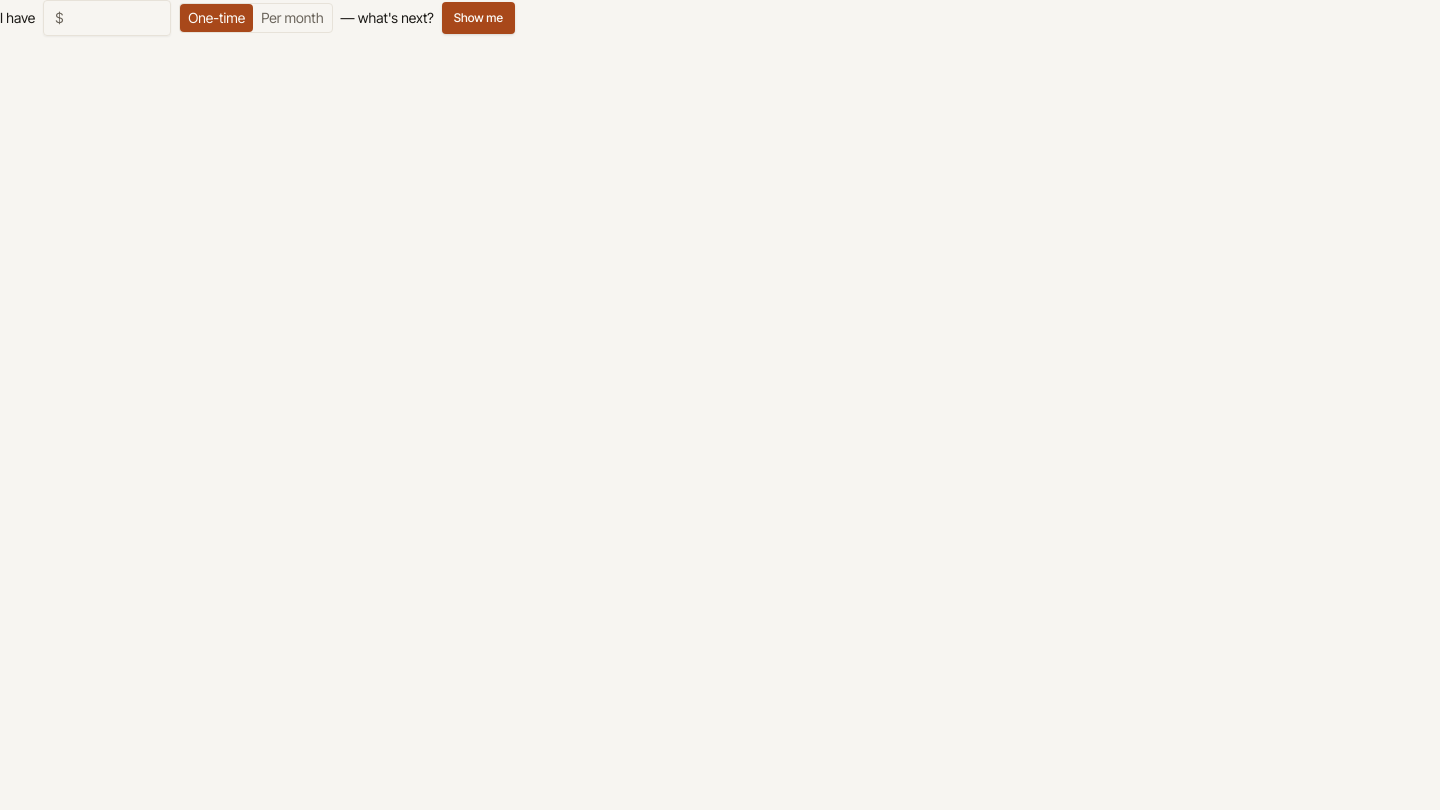
QuestionBar › the interview gate’s what-changed box (R3, keyed at the interview id) › a household that accepted interview 1.1 is re-gated at 1.2 and reads the interview diff
Type "10000" into the field named "Amount". click: [107, 18]
box: [43,0,171,36]
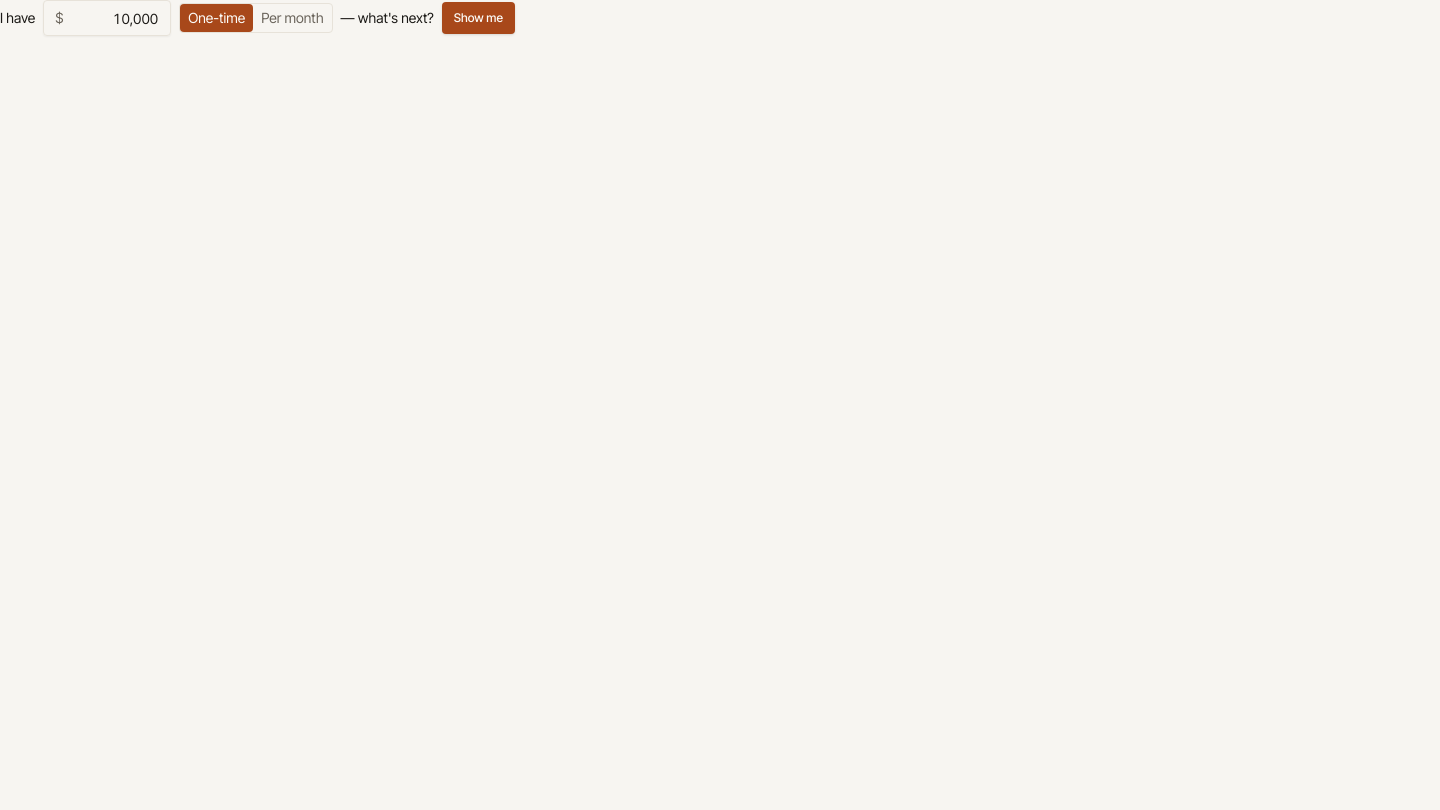
Click the button "Show me". click: [478, 18]
box: [442,2,515,34]
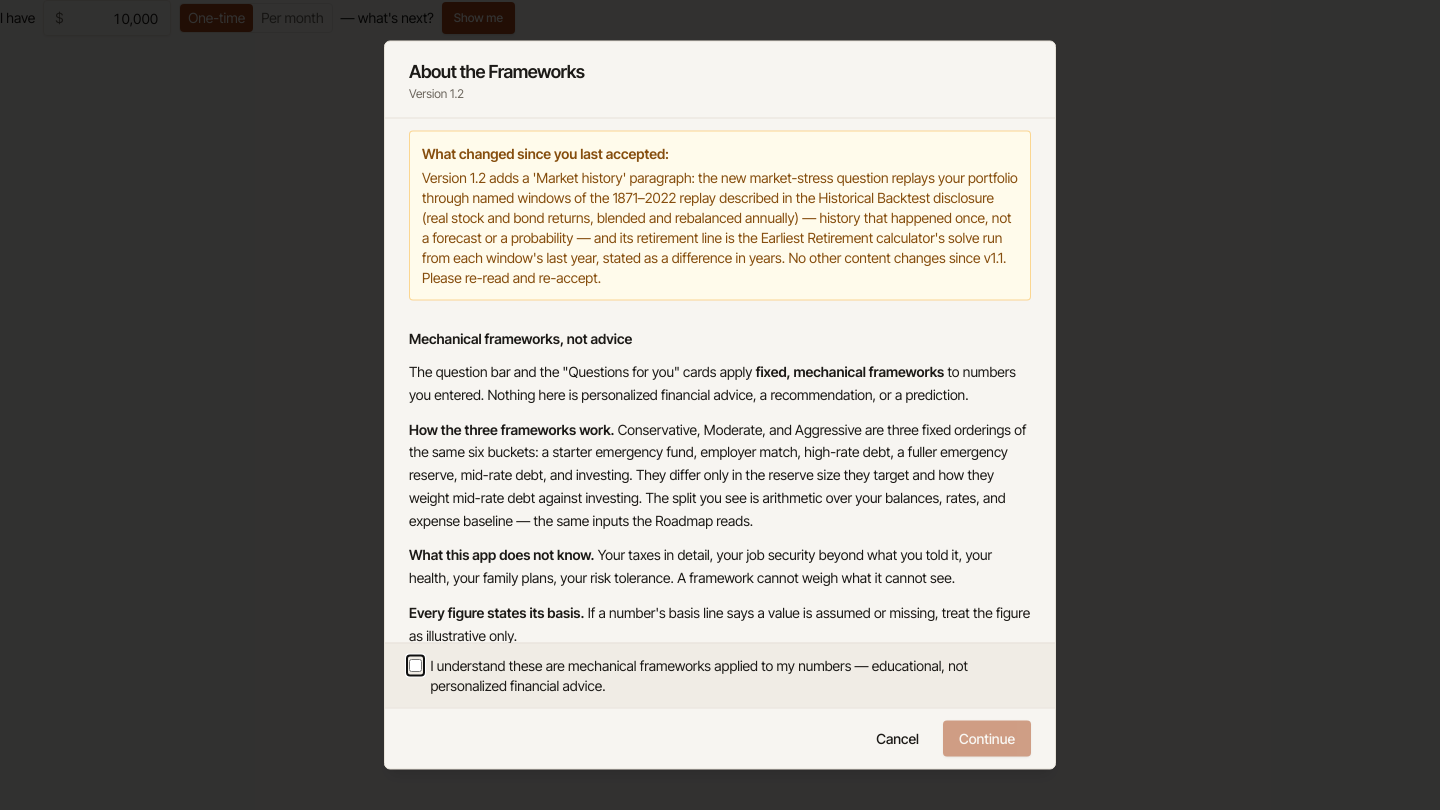
Expected: the heading "About the Frameworks" is shown, [409,60,584,82]
Expected: the text "Version 1.2" is shown, [409,86,464,100]
Expected: the text "What changed since you last accepted:" is shown, [422,144,669,162]
